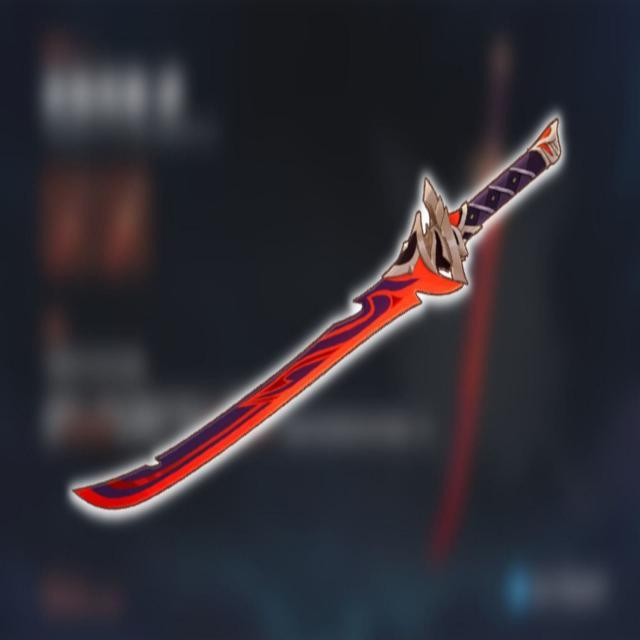sword: (67, 109, 566, 535)
